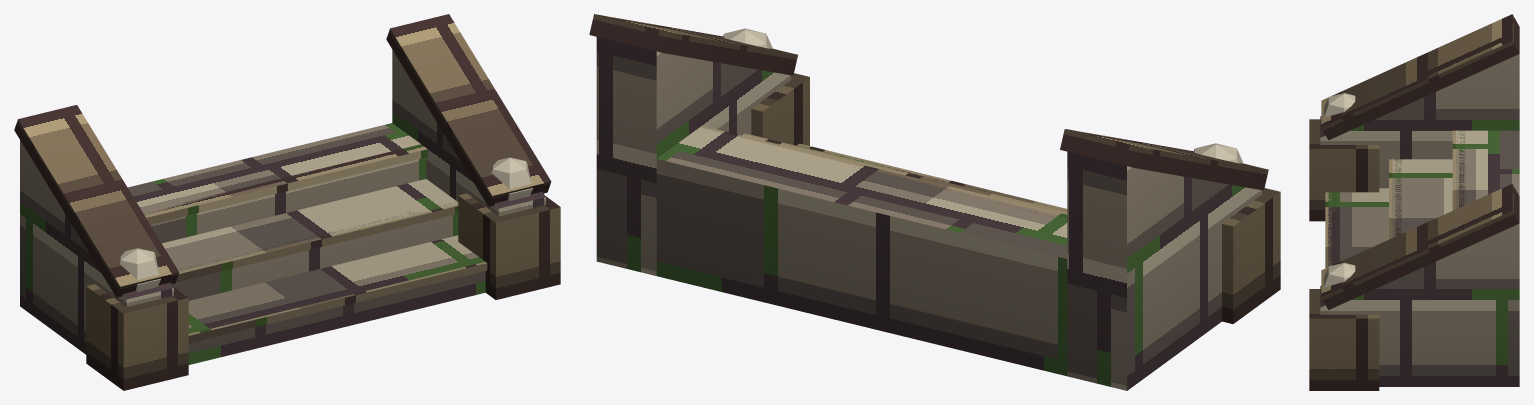
File: scene_stair_crown.glb
The picture shows the model from 3 angles, left to right: view 1: azimuth 30°, elevation 25°; view 2: azimuth 150°, elevation 25°; view 3: azimuth 270°, elevation 25°; orthographic projection. The views are drawn at different scales.
Visible parts, largest first — view 1: scene_stair_crown; view 2: scene_stair_crown; view 3: scene_stair_crown.
Part boxes in pixels (bbox=[...]): scene_stair_crown: bbox=[14, 14, 560, 390]; scene_stair_crown: bbox=[589, 14, 1280, 390]; scene_stair_crown: bbox=[1309, 14, 1519, 390].
Size of the model in its own units: 2.96 by 1.24 by 1.32.
Materials: 2 (1 with a texture image).
